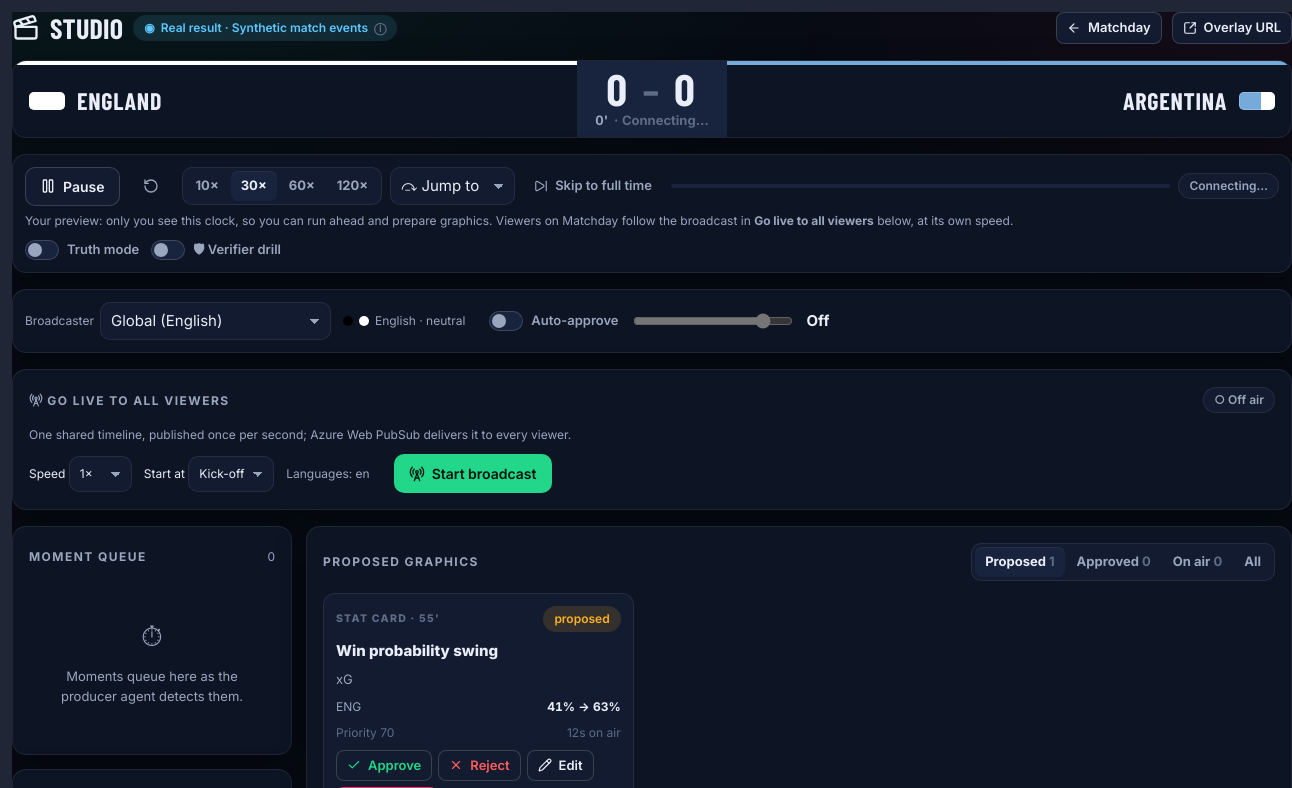
Test: Studio control room › changes the broadcaster profile and the auto-approve threshold
Select "UK + Europe (EN / FR / ES)" in the dropdown labelled "Broadcaster": [215, 321] box [100,302,331,340]
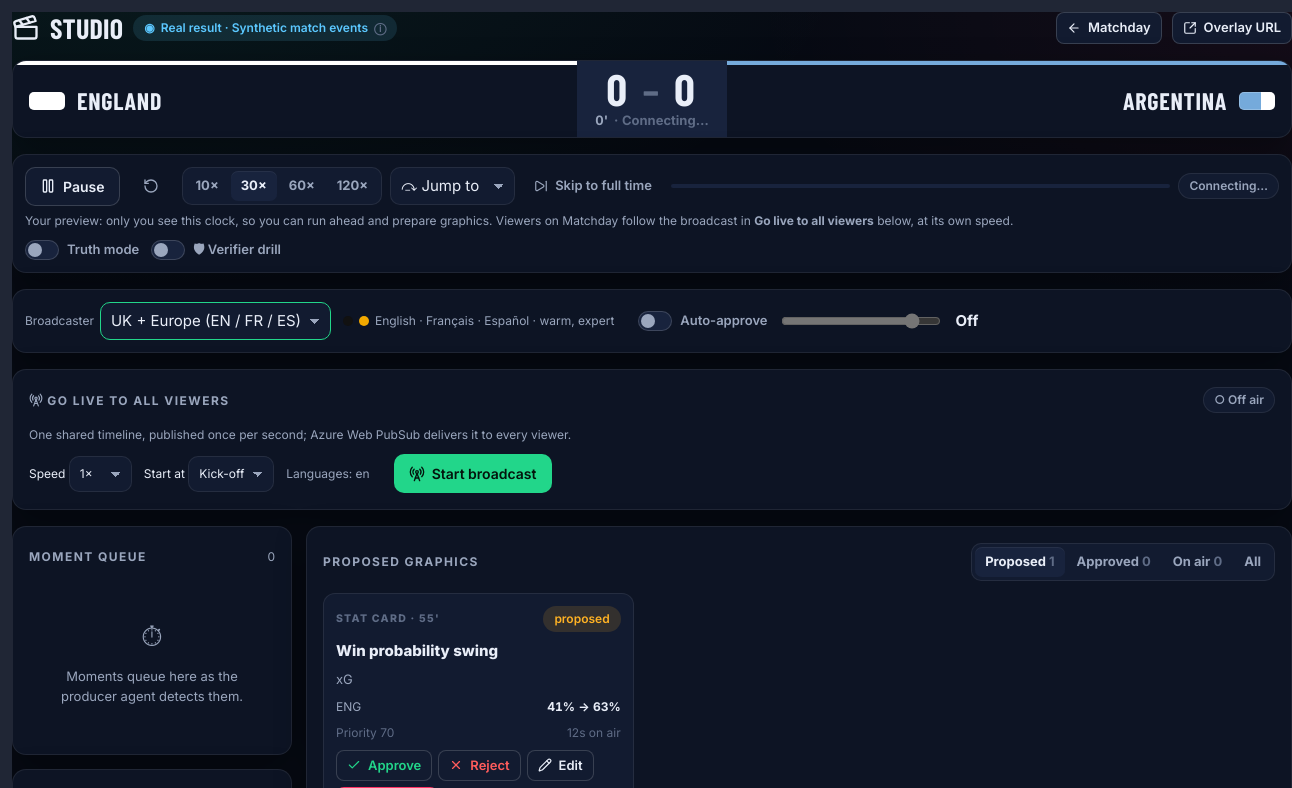
Now the text "English · Français · Español · warm, expert" is shown, box [343,312,614,330]
Click the checkbox labelled "Auto-approve": [655, 321] box [638,311,672,331]
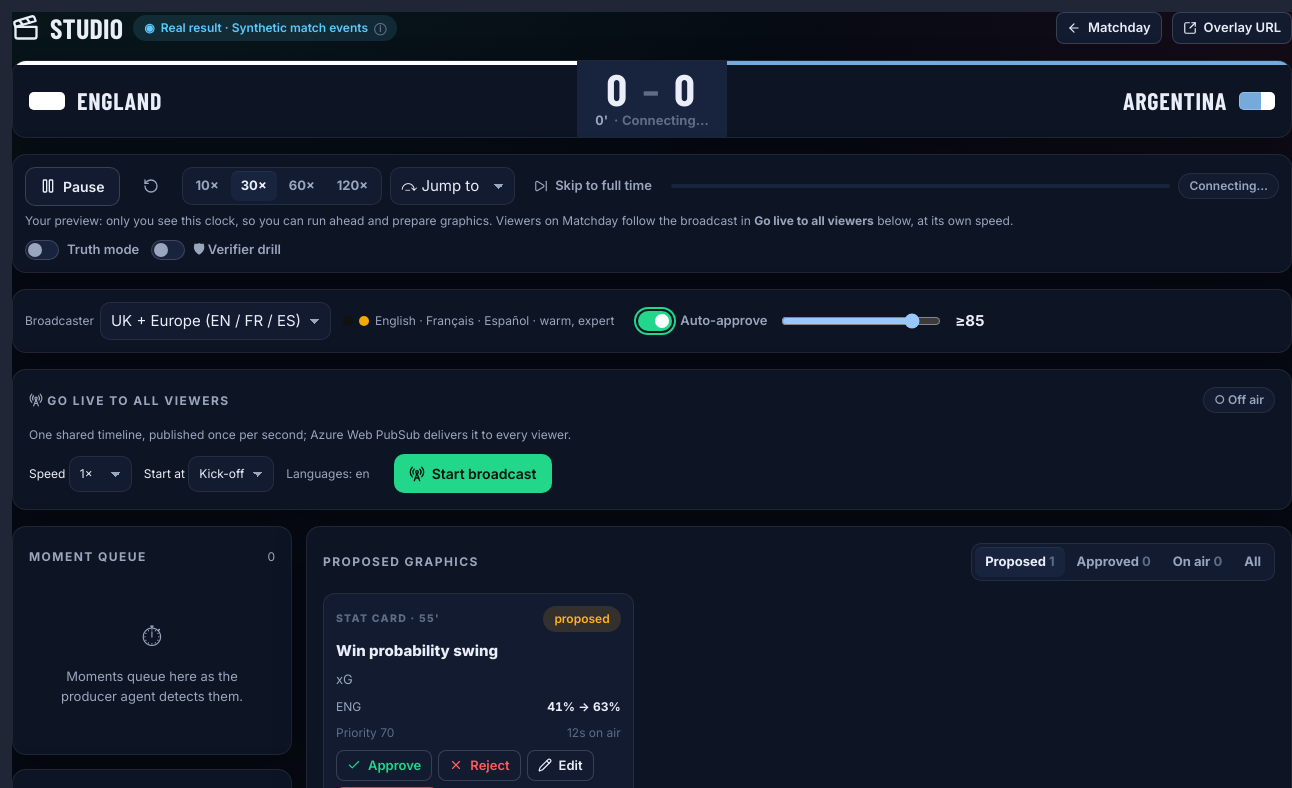
Now the text "≥85" is shown, box [956,310,990,332]
